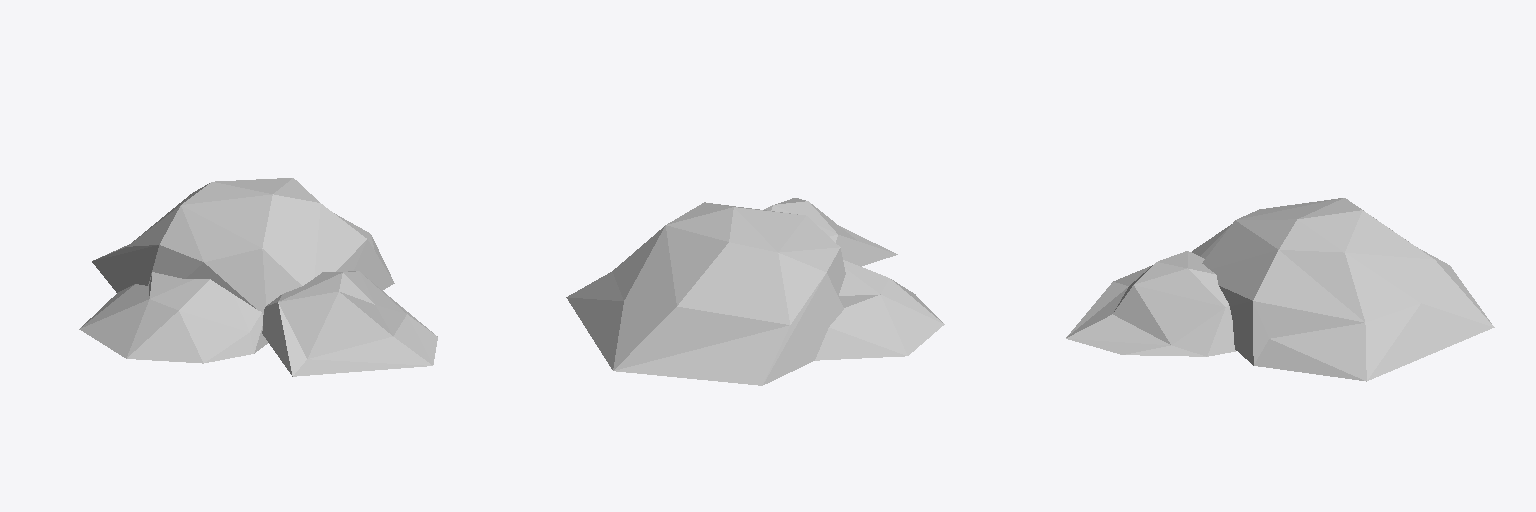
Rendered from Filth.obj.
3 renders of one model, left to right at view 1: azimuth 30°, elevation 25°; view 2: azimuth 150°, elevation 25°; view 3: azimuth 270°, elevation 25°, orthographic.
Visible parts, largest first — view 1: Filth; view 2: Filth; view 3: Filth.
Part boxes in pixels (x1,y1,x2,y2): Filth: (79,178,437,376); Filth: (566,198,944,385); Filth: (1066,198,1494,381).
Bounding box in the file's own units: 1.49 × 0.4401 × 1.74.